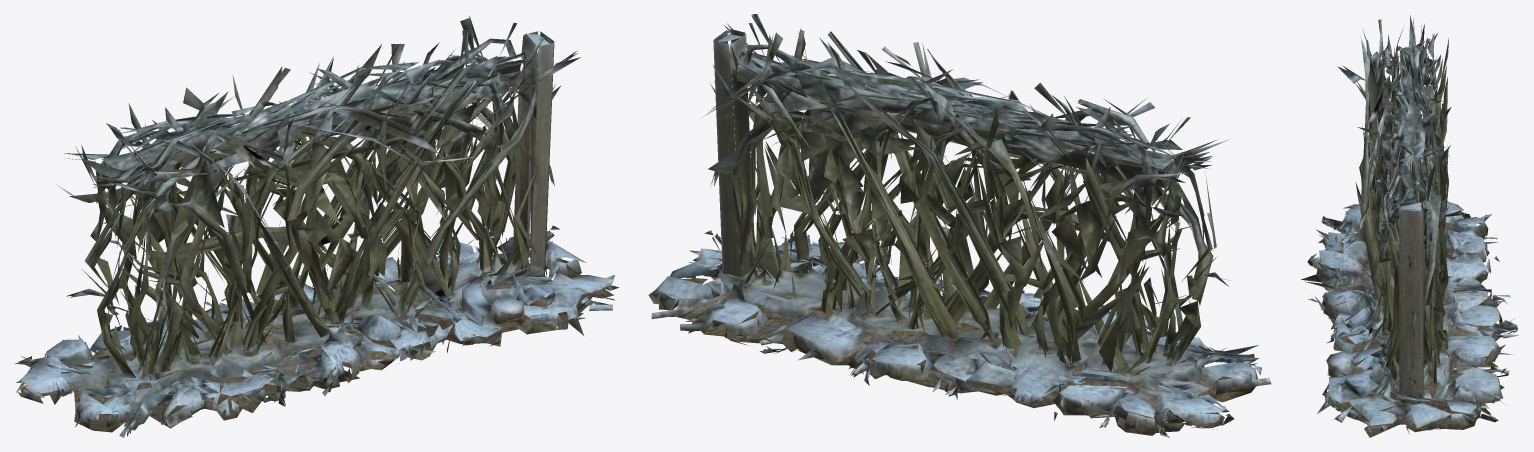
Rendered from hd_thorn2.glb.
3 renders of one model, left to right at view 1: azimuth 30°, elevation 25°; view 2: azimuth 150°, elevation 25°; view 3: azimuth 270°, elevation 25°, orthographic. The views are drawn at different scales.
Visible parts, largest first — view 1: hd_thorn2; view 2: hd_thorn2; view 3: hd_thorn2.
Part boxes in pixels (x1,y1,x2,y2): hd_thorn2: (15,16,619,437); hd_thorn2: (648,14,1271,437); hd_thorn2: (1301,15,1518,437).
Bounding box in the file's own units: 2.01 × 0.9626 × 0.81.
1 material, 1 textured.
